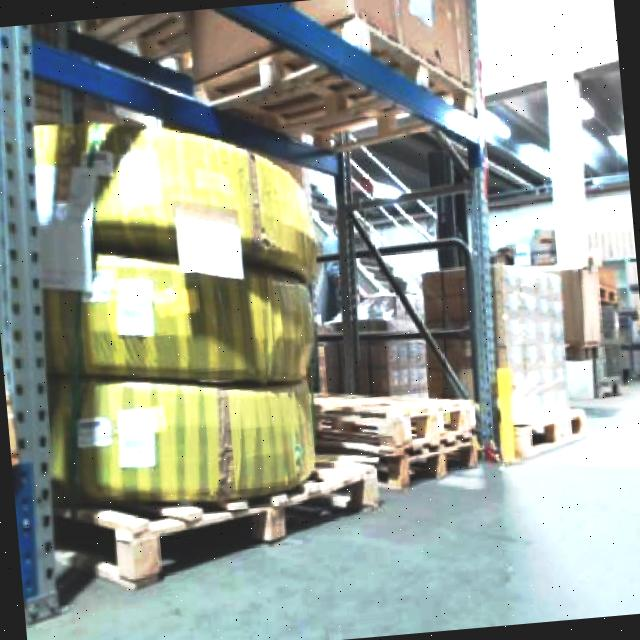ground: (8, 369, 640, 640)
pallet: (17, 90, 374, 592), (44, 373, 489, 594), (79, 0, 488, 172), (52, 454, 385, 594), (66, 360, 321, 517), (417, 253, 588, 466), (309, 376, 481, 496), (527, 219, 640, 392), (599, 252, 640, 384), (510, 405, 588, 459), (623, 252, 640, 384), (3, 365, 22, 477)
